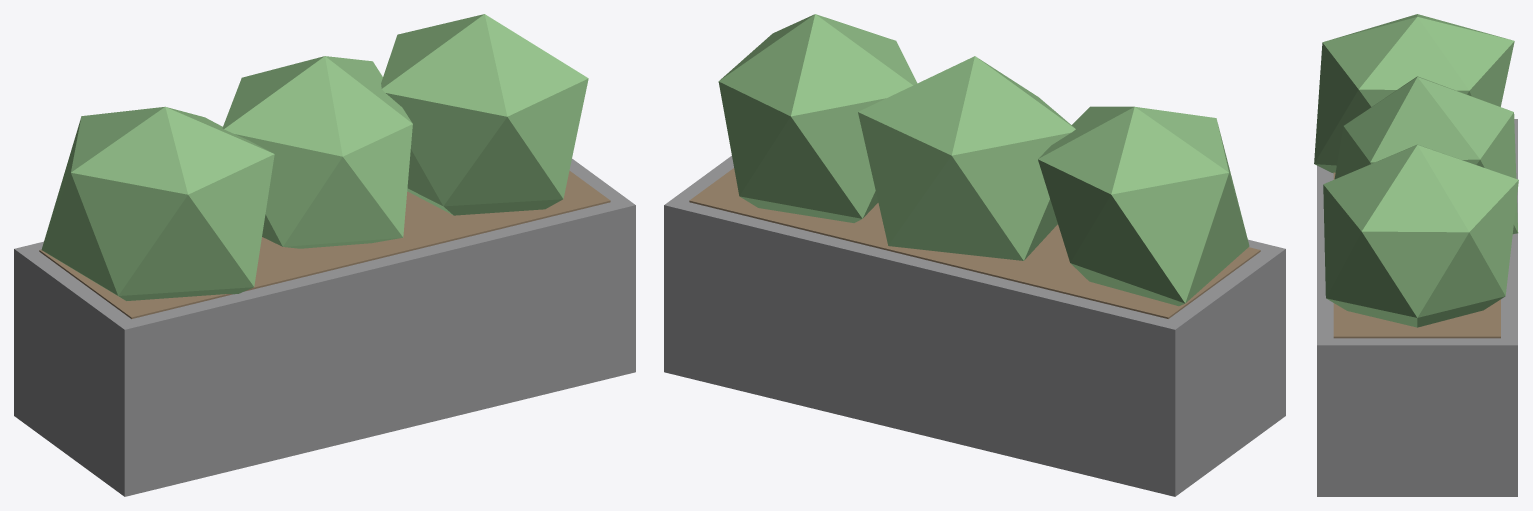
The model's file is Planter.fbx.
3 views of the same model, side by side, from view 1: azimuth 30°, elevation 25°; view 2: azimuth 150°, elevation 25°; view 3: azimuth 270°, elevation 25° (orthographic). The views are drawn at different scales.
Visible parts, largest first — view 1: Planter_Mesh; view 2: Planter_Mesh; view 3: Planter_Mesh.
Boxes of the visible parts, <box> form: Planter_Mesh: <box>14,14,635,496</box>; Planter_Mesh: <box>664,14,1285,496</box>; Planter_Mesh: <box>1314,14,1518,496</box>.
Size of the model in its own units: 1.6 by 0.6118 by 1.02.
